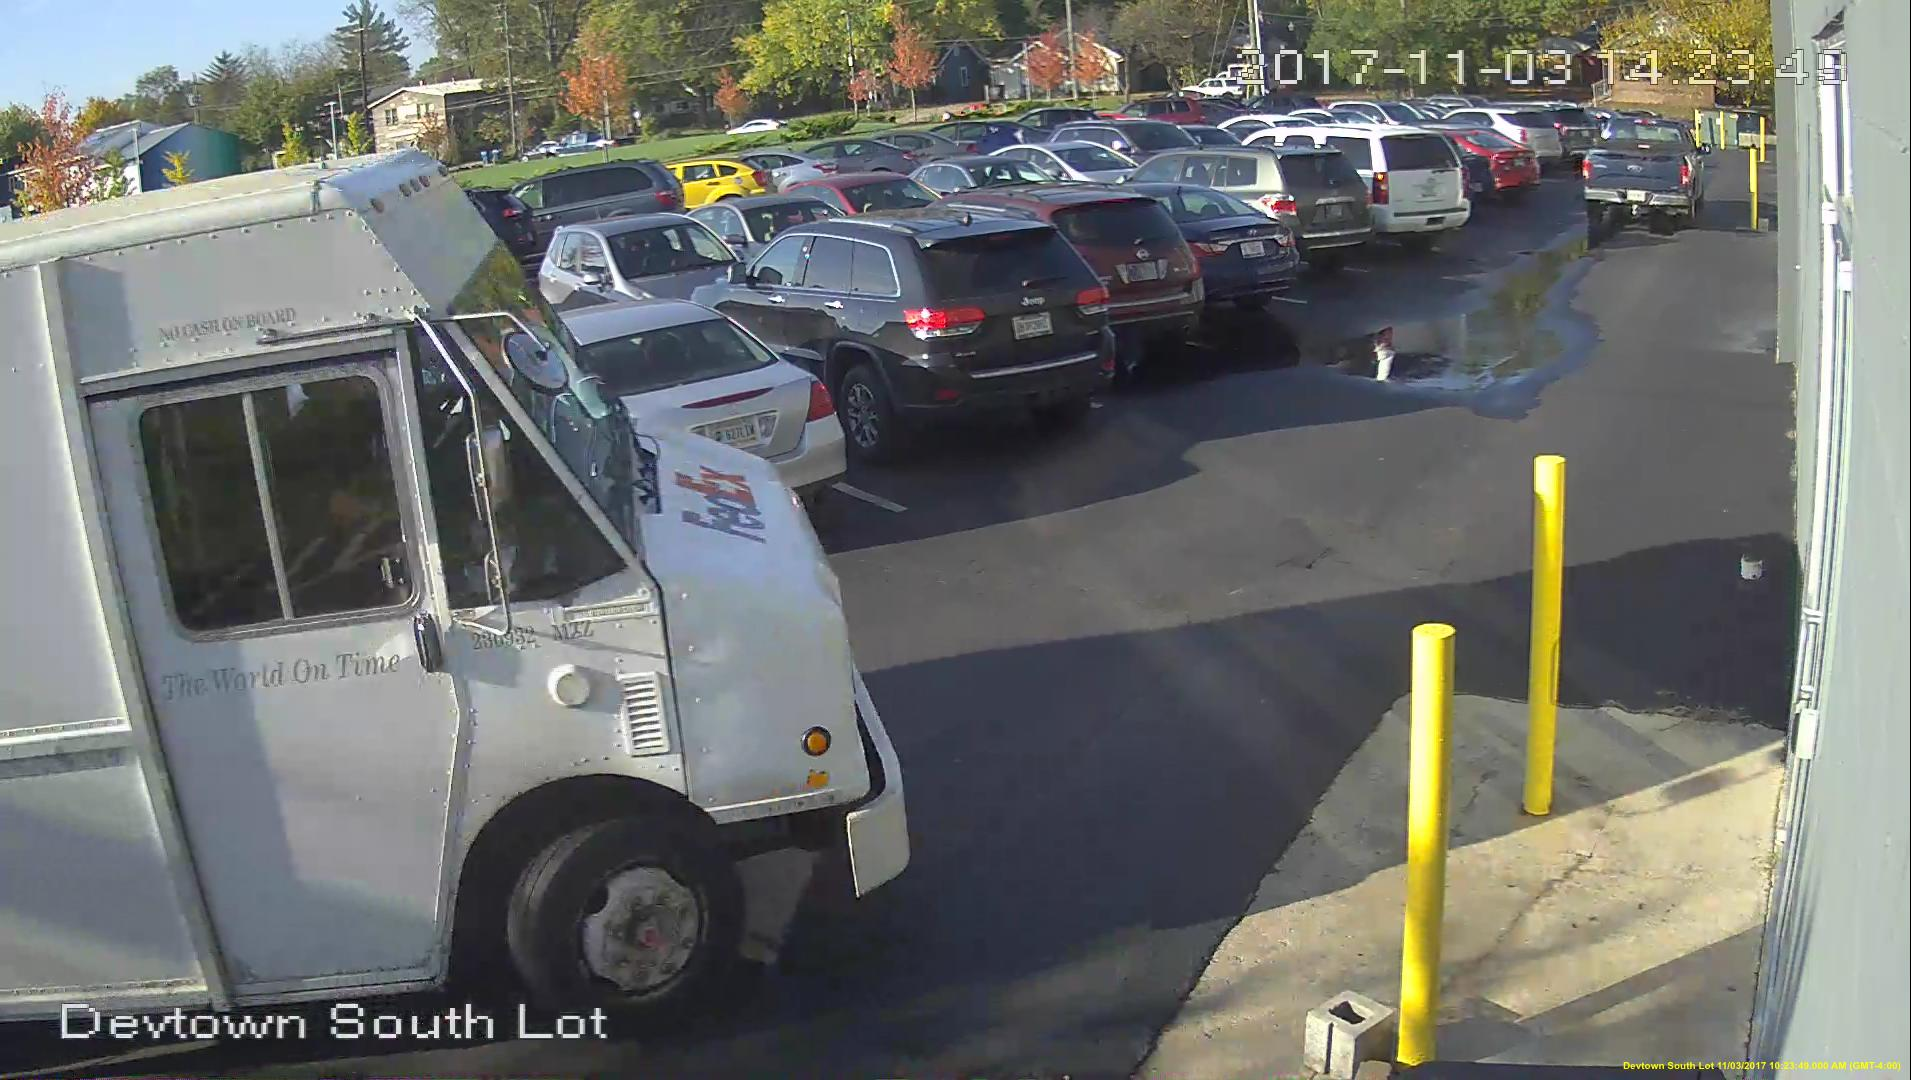fedex_truck: (3, 144, 913, 1037)
